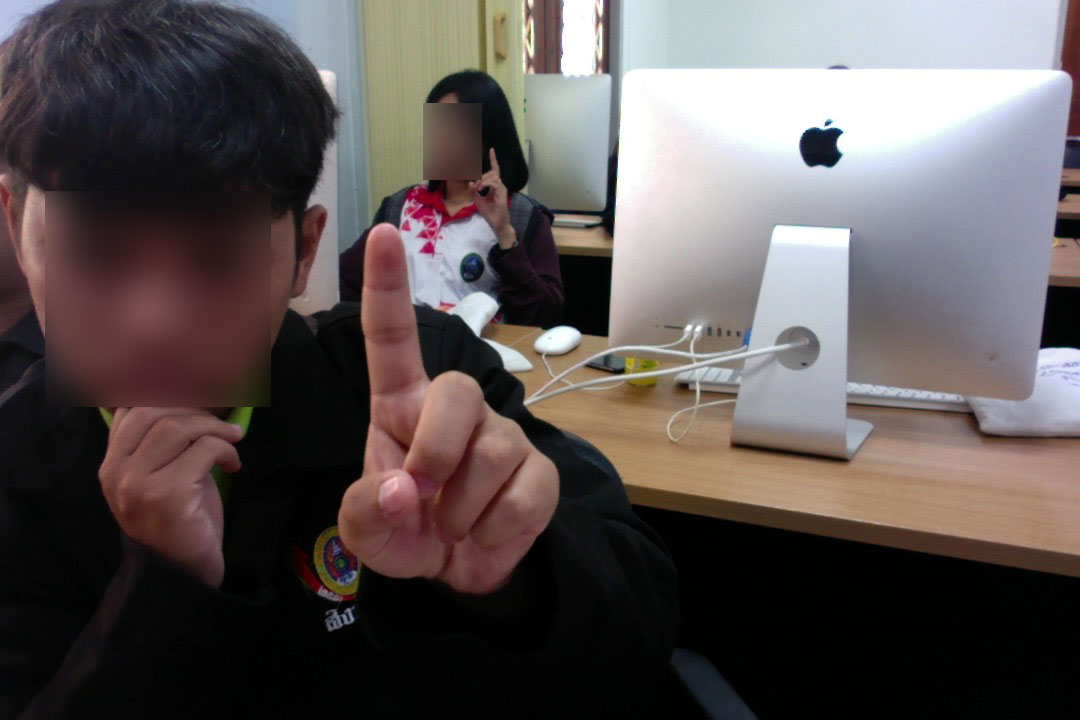dor: (317, 217, 561, 615)
